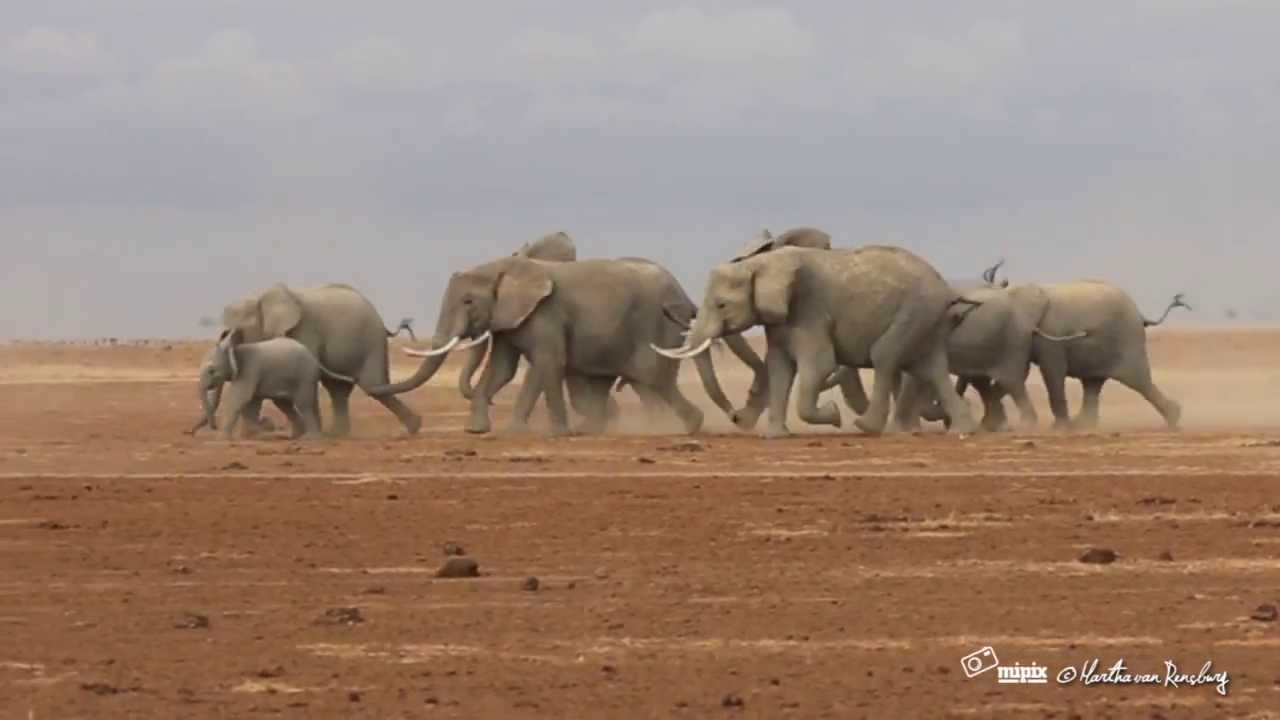elephant: (706, 252, 974, 434), (418, 260, 698, 430), (952, 276, 1198, 416), (210, 286, 422, 436), (194, 326, 330, 442)
